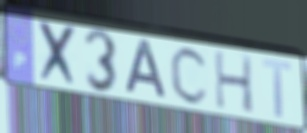3: (83, 27, 120, 96)
A: (124, 38, 170, 102)
C: (168, 44, 210, 107)
H: (212, 47, 256, 115)
T: (261, 56, 294, 121)
X: (36, 18, 80, 91)
